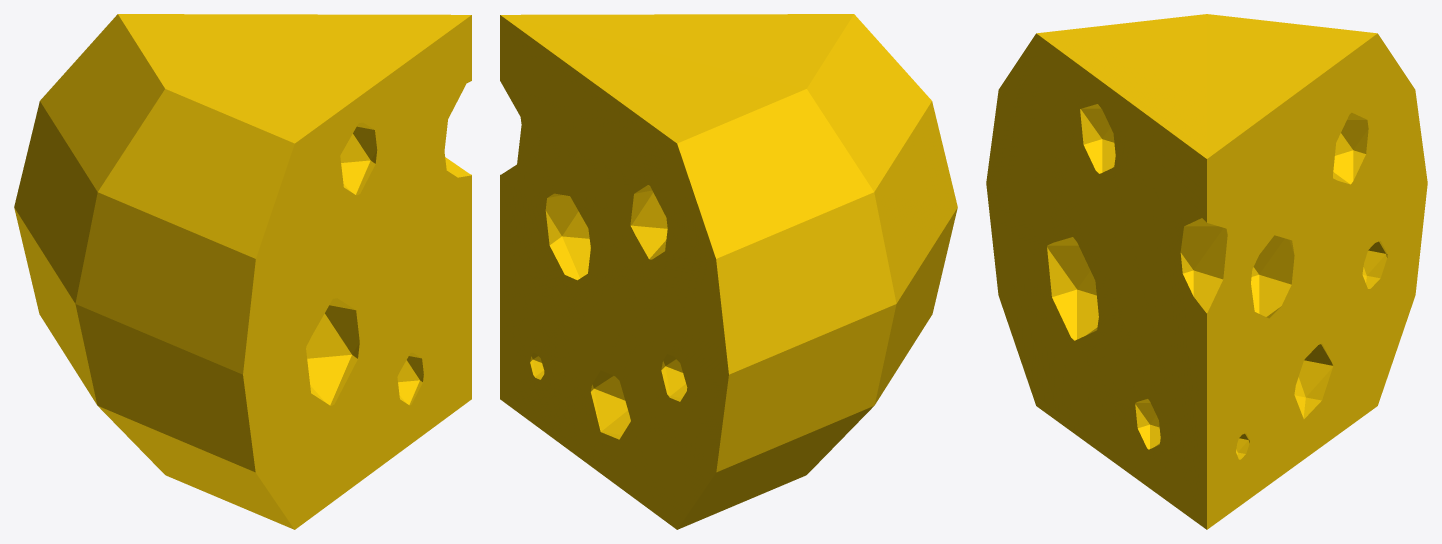
Rendered from Cheese_Small_With_Holes.glb.
3 views of the same model, side by side, from view 1: azimuth 30°, elevation 25°; view 2: azimuth 150°, elevation 25°; view 3: azimuth 270°, elevation 25° (orthographic). The views are drawn at different scales.
Parts seen in each view (by area): view 1: Cheese_Small_With_Holes; view 2: Cheese_Small_With_Holes; view 3: Cheese_Small_With_Holes.
Boxes of the visible parts, x1=… form: Cheese_Small_With_Holes: x1=14, y1=14, x2=471, y2=529; Cheese_Small_With_Holes: x1=500, y1=14, x2=957, y2=529; Cheese_Small_With_Holes: x1=986, y1=14, x2=1427, y2=529.
Bounding box in the file's own units: 0.3893 × 0.3626 × 0.3893.
Materials: 1 (1 with a texture image).
